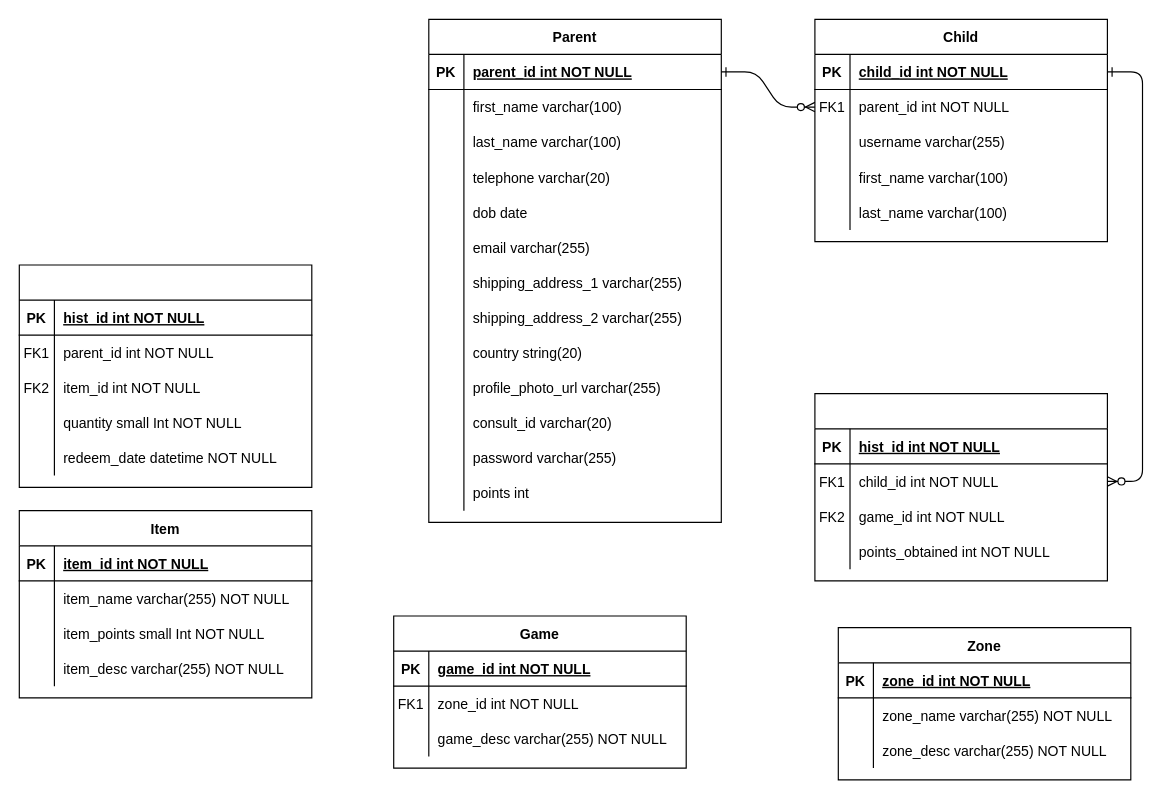
Image size: 1162x799. Some labels were removed from this diagram. Each missing label, with the box of its shape:
Game_History: (814, 393, 1107, 581)
Redeem History: (18, 264, 312, 487)
